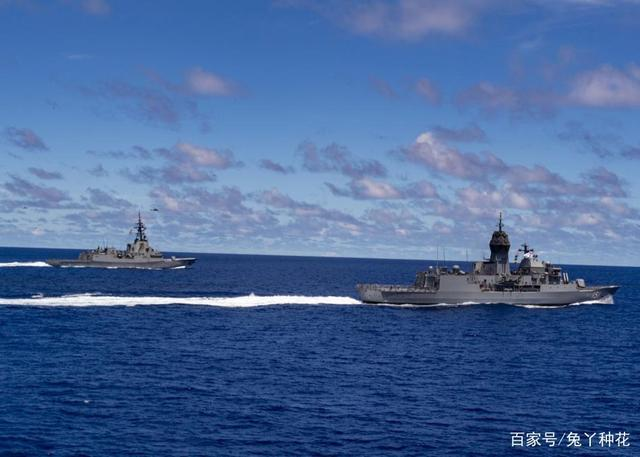warship: (344, 222, 617, 308), (41, 223, 196, 270)
